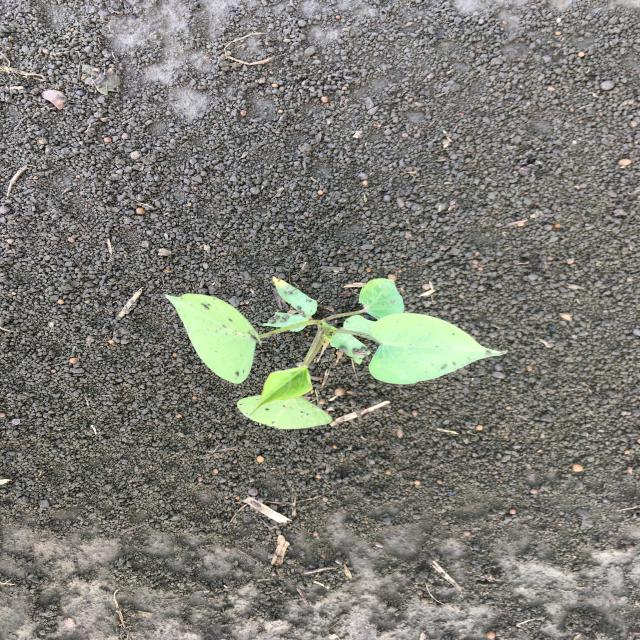MorningGlory: (161, 274, 511, 432)
